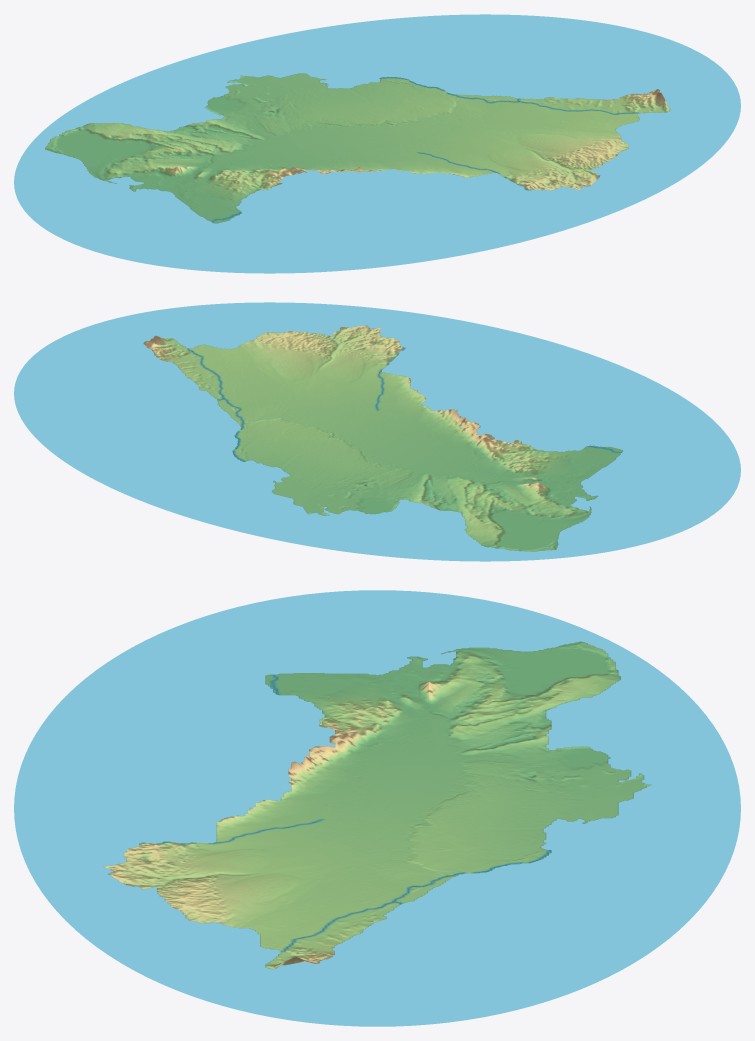
File: TKM-terrain.glb
The picture shows the model from 3 angles, top to bottom: view 1: azimuth 30°, elevation 25°; view 2: azimuth 150°, elevation 25°; view 3: azimuth 270°, elevation 25°; orthographic projection. The views are drawn at different scales.
Parts seen in each view (by area): view 1: Relevo com hidrografia; view 2: Relevo com hidrografia; view 3: Relevo com hidrografia.
Boxes of the visible parts, x1,y1,x2,y2 form: Relevo com hidrografia: (14,14,740,273); Relevo com hidrografia: (14,302,740,561); Relevo com hidrografia: (14,590,740,1026).
Size of the model in its own units: 2.1 by 0.0361 by 1.48.
Materials: 2 (1 with a texture image).
